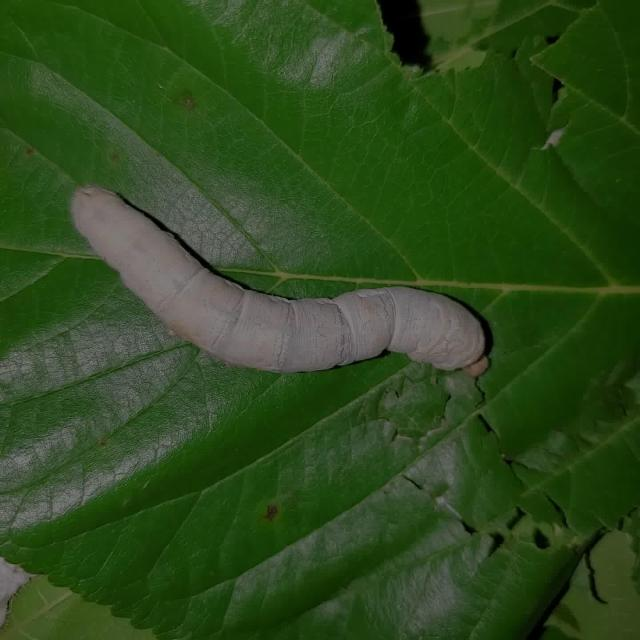Healthy: (60, 174, 497, 398)
